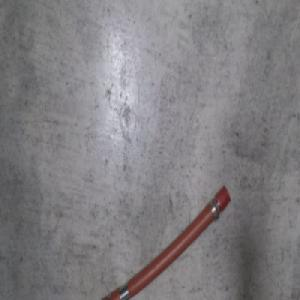Hose: (94, 181, 230, 300)
